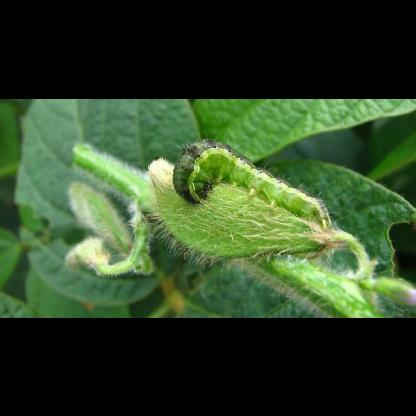oruga: (171, 146, 339, 230)
